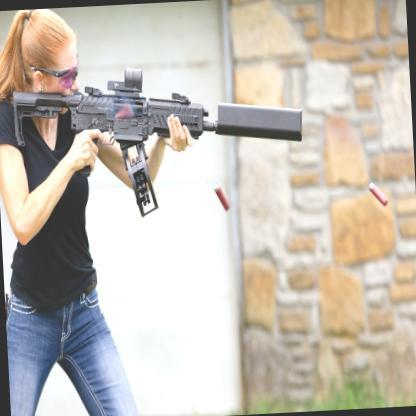rifle: (7, 46, 314, 240)
